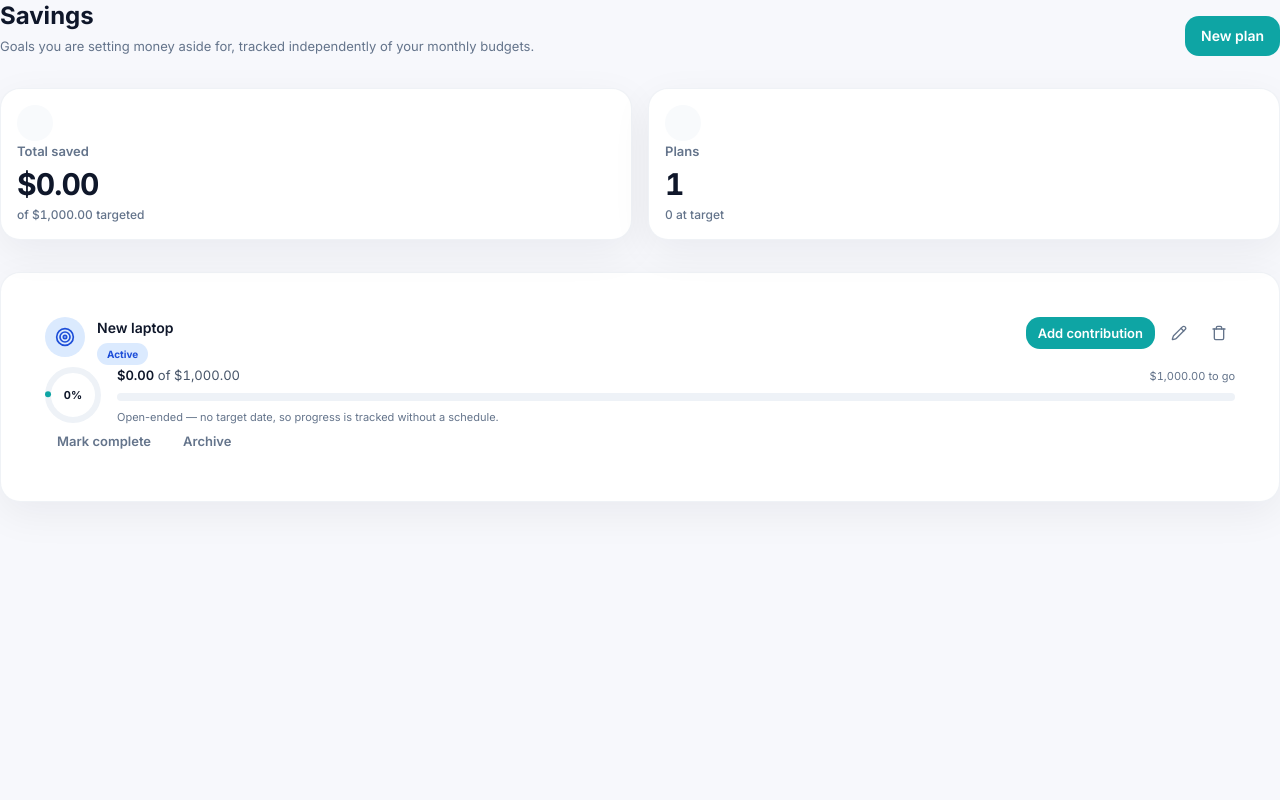
Test: logging a contribution › updates the plan's progress through the ordinary transaction path
Click the button "Add contribution" at (1090, 333), box [1026, 317, 1155, 349]
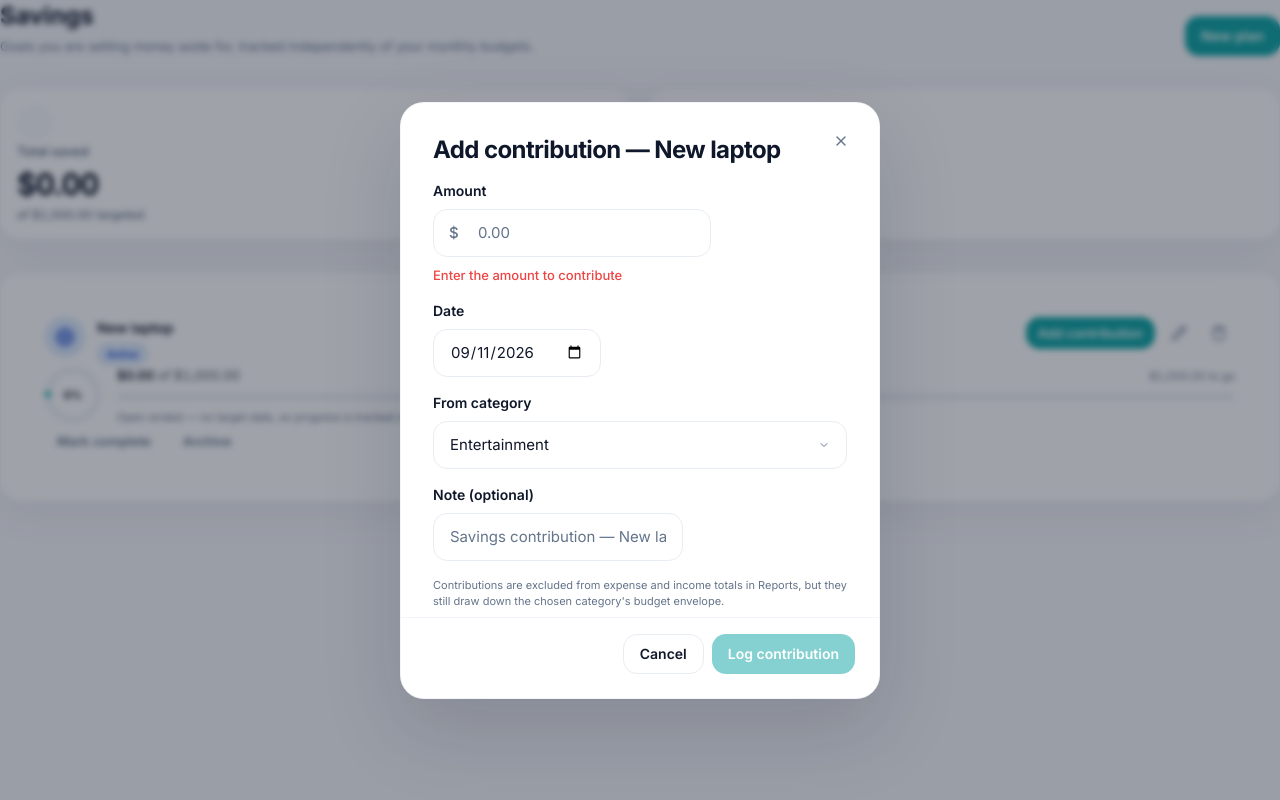
Type "400" into the field labelled "Amount" at (572, 232), box [433, 208, 711, 256]
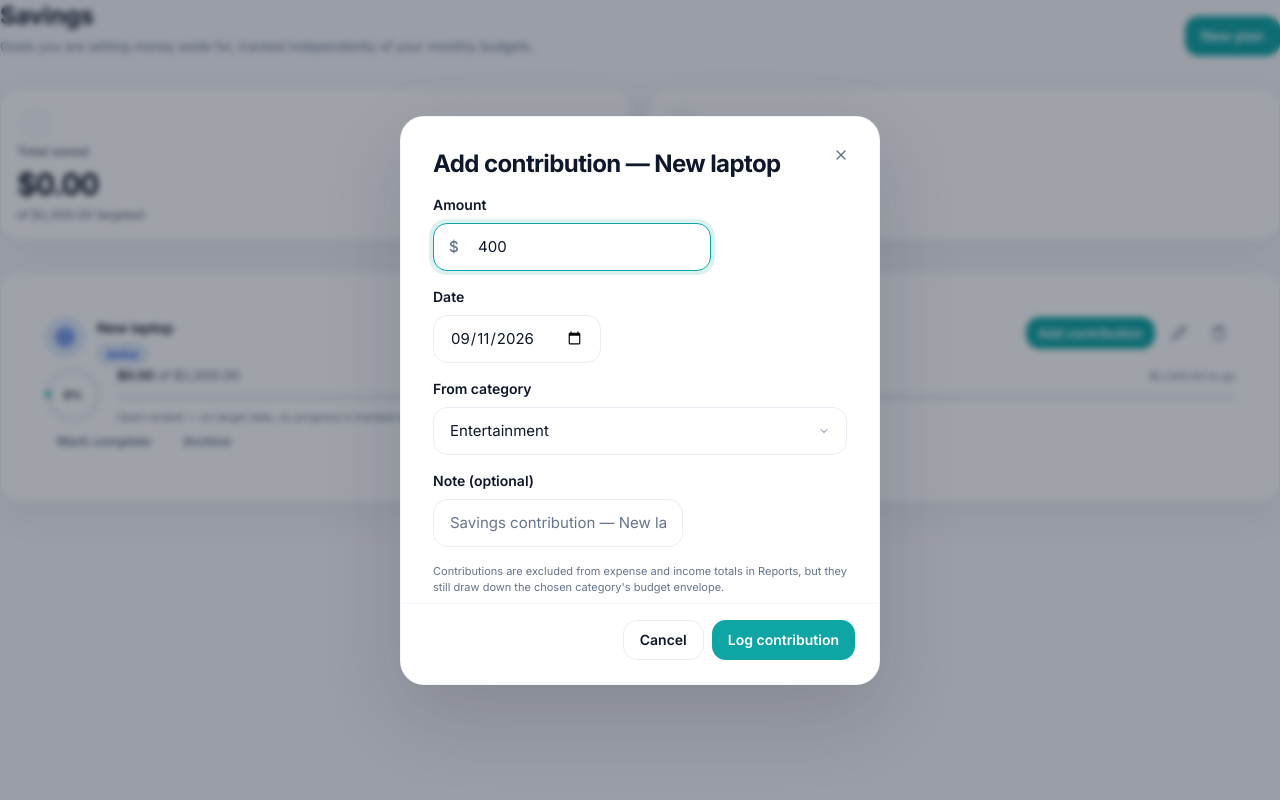
Click the button "Log contribution" at (783, 640), box [712, 620, 855, 660]
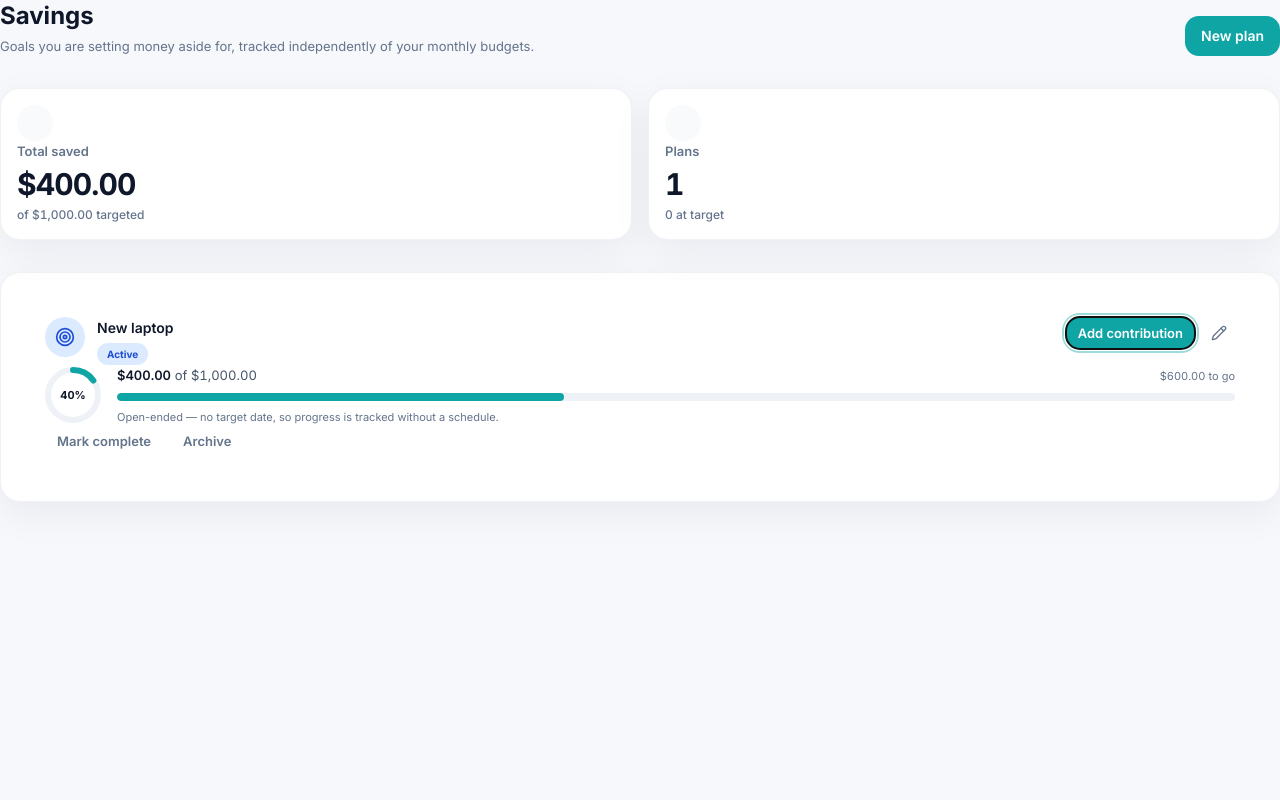
Expected: the text "$400.00" is shown 2 times, [17, 166, 135, 202]; [117, 367, 171, 383]
Result: the text "40%" is shown at [60, 387, 86, 403]
